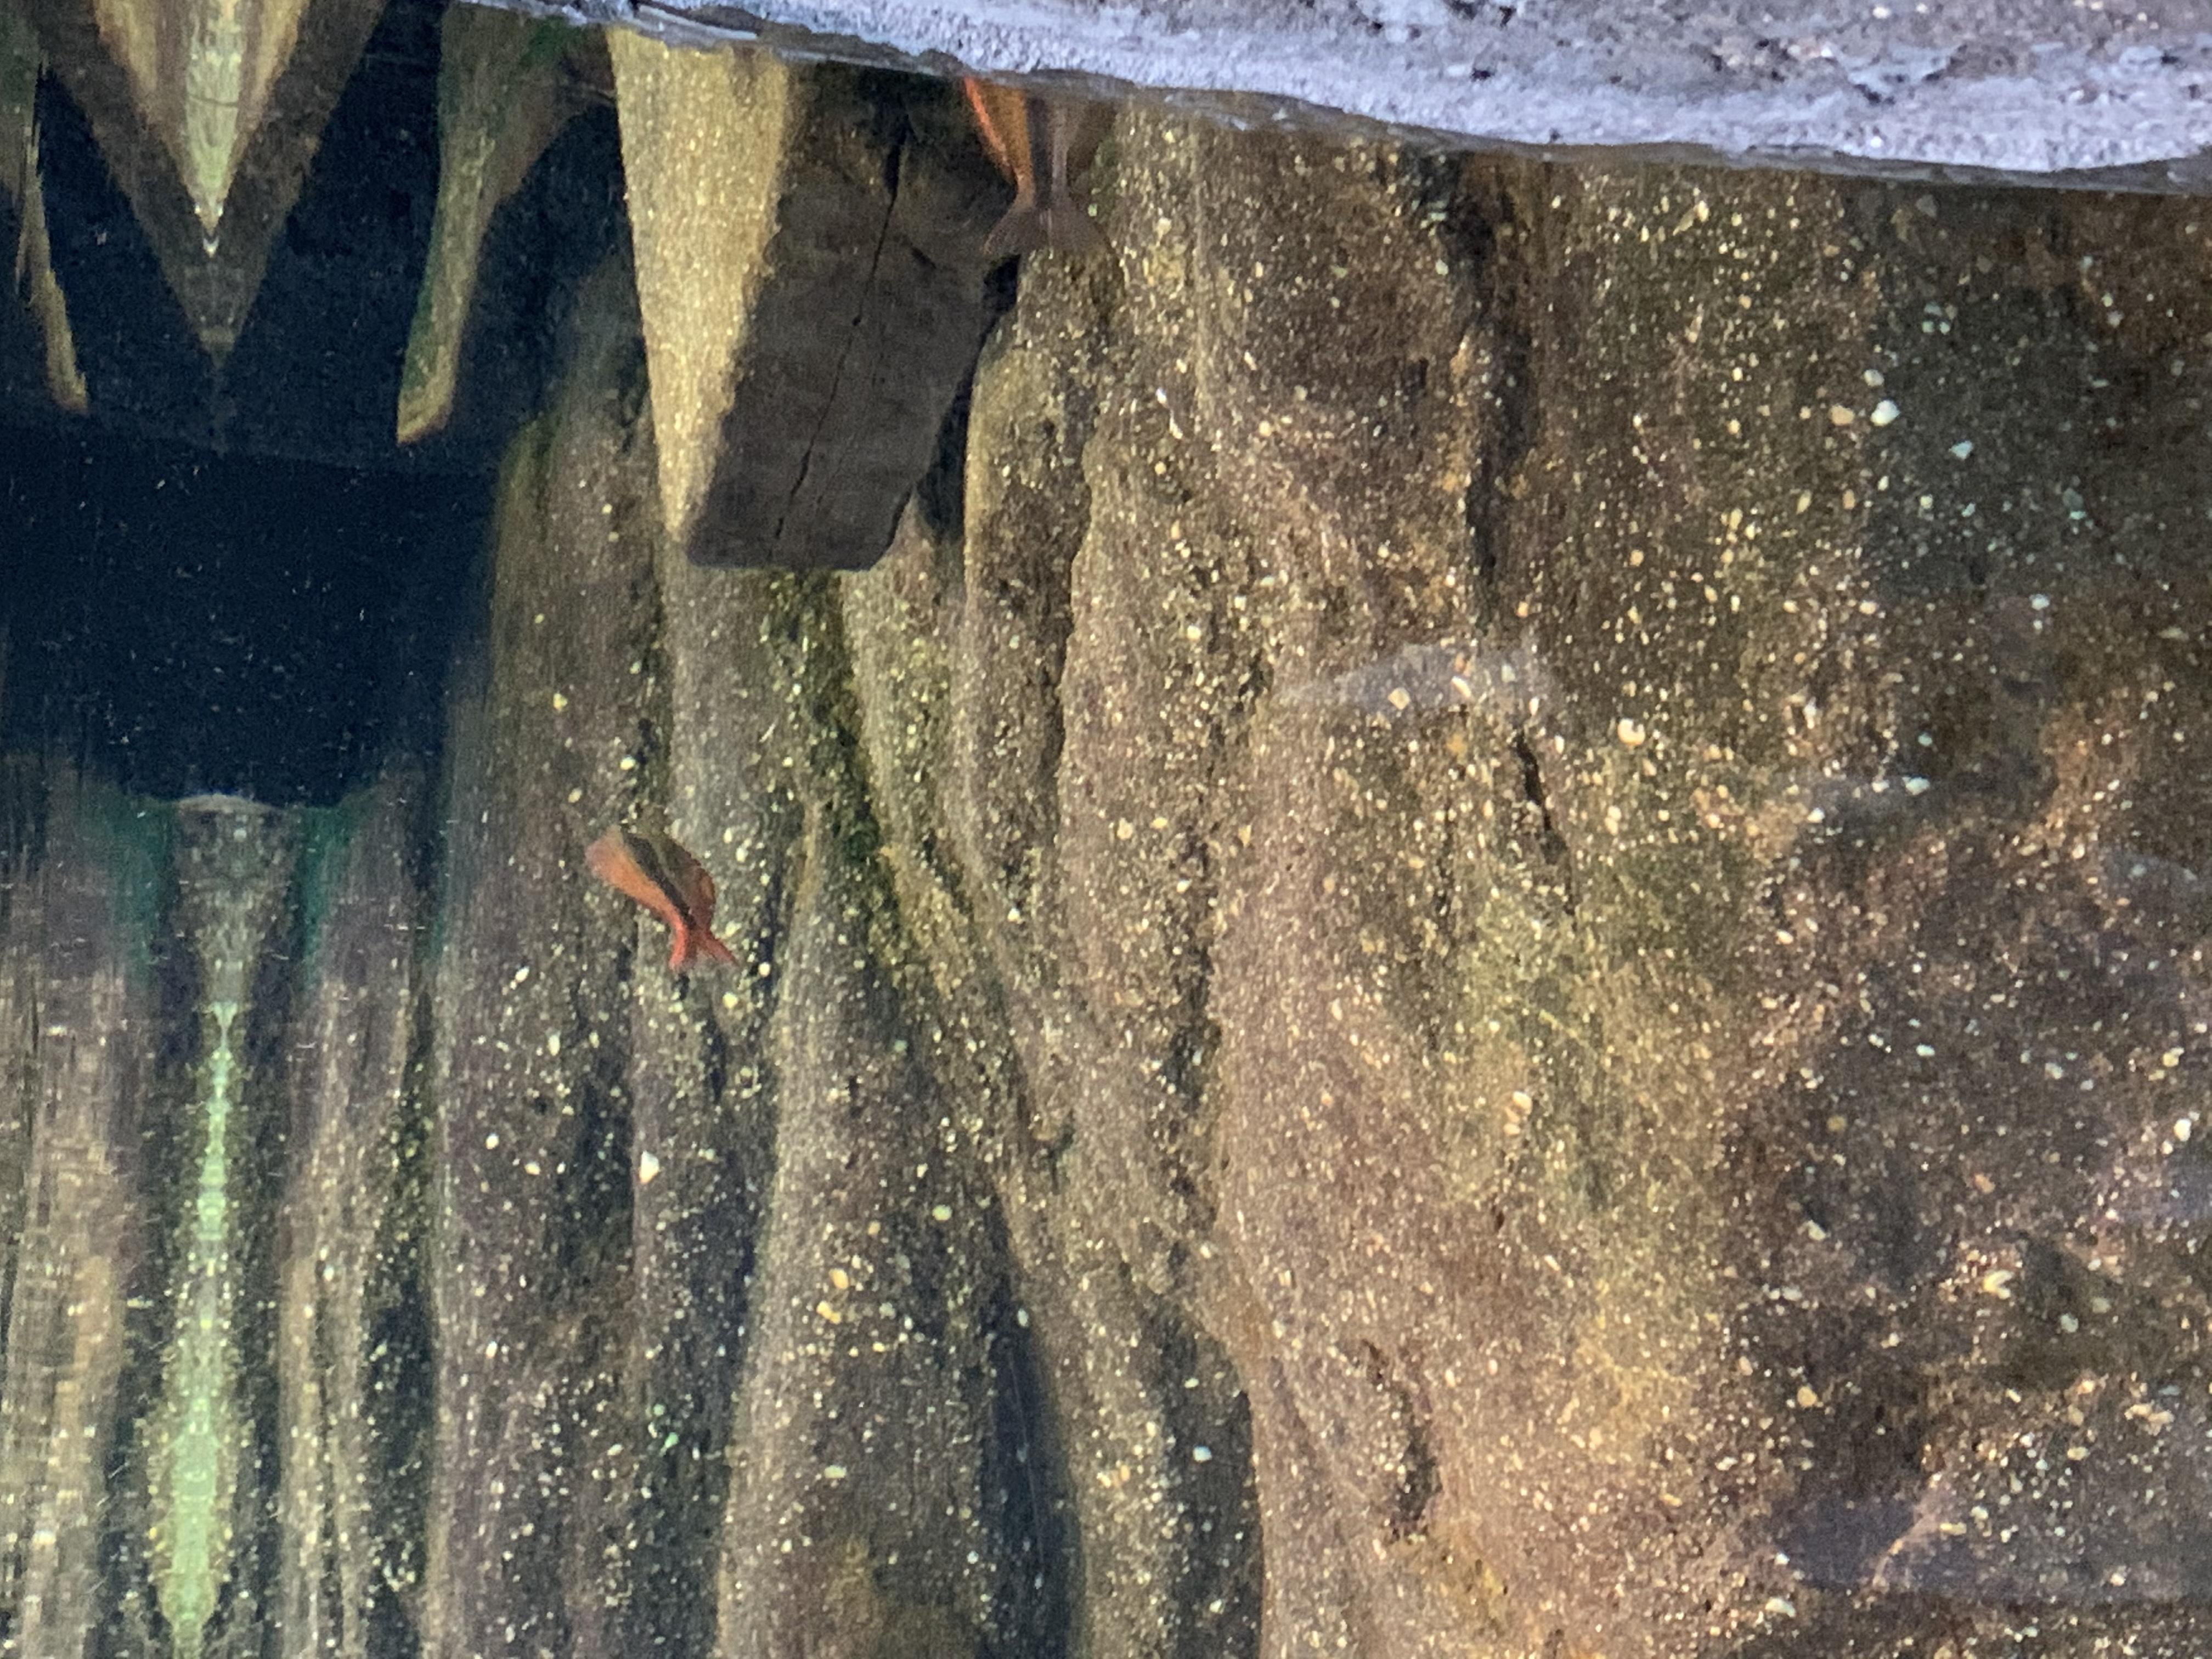fish: (961, 77, 1116, 256), (583, 819, 745, 981)
